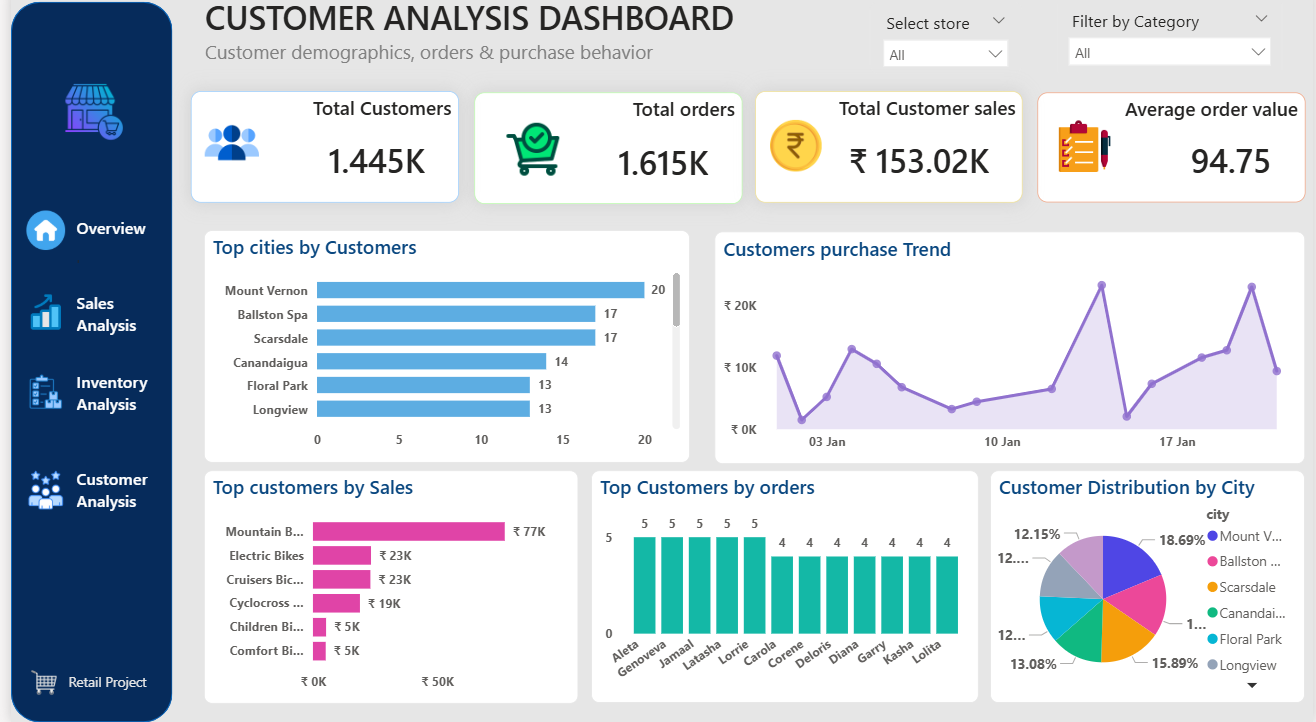

This screenshot's page, from the dashboard's own definition file:
{"tool":"powerbi","page":{"name":"Customer Analysis","canvas":[1280,720],"ordinal":3},"visuals":[{"type":"textbox","box":[185.8,0,575.4,87.7],"z":0},{"type":"slicer","fields":{"Values":["stores_clean.store_name"]},"box":[844.2,11.8,150,70],"z":1000},{"type":"shape","box":[0,11.6,158.7,708.3],"z":2000},{"type":"image","box":[9,216.7,50.3,38.7],"z":3000},{"type":"image","box":[8.6,297.3,50.3,40],"z":4000},{"type":"image","box":[9,375.4,50.3,38.7],"z":5000},{"type":"image","box":[8.6,472.3,50.3,38.7],"z":6000},{"type":"textbox","box":[59.3,216.7,99.3,314.8],"z":7000},{"type":"image","box":[51.6,89,60,62],"z":8000},{"type":"image","title":"Retail shop","box":[18.1,665.7,29.7,29.7],"z":9000},{"type":"textbox","box":[51.6,665.7,96.8,34.8],"z":10000},{"type":"slicer","title":"Filter by date","fields":{"Values":["categories_clean.category_name"]},"box":[1028.2,11.6,221.9,69.7],"z":11000},{"type":"group","id":"g1","title":"Group 1","box":[455,100.6,263.2,109.7],"z":12000},{"type":"cardVisual","title":"Average order value","fields":{"Data":["brands_clean.Average Order Value"]},"box":[1008.9,100.6,263.4,108.4],"z":12000,"group":"g3"},{"type":"group","id":"g2","title":"Group 3","box":[176.7,99.3,264.5,109.7],"z":13000},{"type":"clusteredBarChart","title":"Top cities by Customers","fields":{"Category":["customers_clean.city"],"Y":["CountNonNull(customers_clean.customer_id)"]},"box":[189.6,236.1,477.3,228.3],"z":14000},{"type":"cardVisual","title":"Total Customer sales","fields":{"Data":["Sum(order_items_clean.sales_amount)"]},"box":[731.9,99.3,263.2,109.7],"z":15000,"group":"g4"},{"type":"clusteredBarChart","title":"Top customers by Sales","fields":{"Category":["categories_clean.category_name"],"Y":["Sum(order_items_clean.sales_amount)"]},"box":[189.6,472.2,367.7,229.6],"z":15000},{"type":"image","box":[1028.8,113.7,54.2,80],"z":15007,"group":"g3"},{"type":"image","box":[744.4,112.2,54.2,81.3],"z":15009,"group":"g4"},{"type":"lineChart","title":"Customers purchase Trend","fields":{"Y":["Sum(order_items_clean.sales_amount)"],"Category":["orders_clean.order_date"]},"box":[691.5,237.4,580.5,228.3],"z":16000},{"type":"columnChart","title":"Top Customers by orders","fields":{"Category":["customers_clean.first_name"],"Y":["CountNonNull(orders_clean.order_id)"]},"box":[570.2,472.2,380.6,228.3],"z":17000},{"type":"pieChart","title":"Customer Distribution by City","fields":{"Category":["customers_clean.city"],"Y":["CountNonNull(customers_clean.customer_id)"]},"box":[962.4,472.2,309.6,228.3],"z":18000},{"type":"group","id":"g3","title":"Group 2","box":[1008.9,100.6,263.2,108.4],"z":19000},{"type":"group","id":"g4","title":"Group 4","box":[731.9,99.3,263.2,109.7],"z":20000},{"type":"cardVisual","title":"Total Customers","fields":{"Data":["CountNonNull(customers_clean.customer_id)"]},"box":[176.7,99.3,263.4,109.9],"z":21000,"group":"g2"},{"type":"image","box":[189.3,109.1,55.5,81.3],"z":22000,"group":"g2"},{"type":"cardVisual","title":"Total orders","fields":{"Data":["CountNonNull(orders_clean.order_id)"]},"box":[455,100.6,263.4,109.9],"z":23000,"group":"g1"},{"type":"image","box":[482.1,115.6,61.7,81.3],"z":24000,"group":"g1"}]}

Visuals, with their boxes on the page's 1280x720 design canvas (x1, y1, x2, y2). These are canvas units, not pixel positions in the 1316x722 screenshot, which may show the page scaled, cropped or inside an application window:
textbox: select_region(186, 0, 761, 88)
slicer - stores_clean.store_name: select_region(844, 12, 994, 82)
shape: select_region(0, 12, 159, 720)
image: select_region(9, 217, 59, 255)
image: select_region(9, 297, 59, 337)
image: select_region(9, 375, 59, 414)
image: select_region(9, 472, 59, 511)
textbox: select_region(59, 217, 159, 532)
image: select_region(52, 89, 112, 151)
"Retail shop" image: select_region(18, 666, 48, 695)
textbox: select_region(52, 666, 148, 700)
"Filter by date" slicer: select_region(1028, 12, 1250, 81)
"Group 1" group: select_region(455, 101, 718, 210)
"Average order value" cardVisual: select_region(1009, 101, 1272, 209)
"Group 3" group: select_region(177, 99, 441, 209)
"Top cities by Customers" clusteredBarChart: select_region(190, 236, 667, 464)
"Total Customer sales" cardVisual: select_region(732, 99, 995, 209)
"Top customers by Sales" clusteredBarChart: select_region(190, 472, 557, 702)
image: select_region(1029, 114, 1083, 194)
image: select_region(744, 112, 799, 194)
"Customers purchase Trend" lineChart: select_region(692, 237, 1272, 466)
"Top Customers by orders" columnChart: select_region(570, 472, 951, 700)
"Customer Distribution by City" pieChart: select_region(962, 472, 1272, 700)
"Group 2" group: select_region(1009, 101, 1272, 209)
"Group 4" group: select_region(732, 99, 995, 209)
"Total Customers" cardVisual: select_region(177, 99, 440, 209)
image: select_region(189, 109, 245, 190)
"Total orders" cardVisual: select_region(455, 101, 718, 210)
image: select_region(482, 116, 544, 197)
